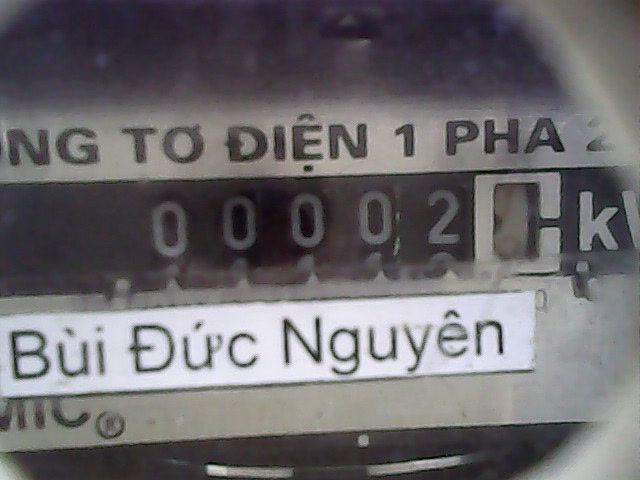phy_plate: (130, 167, 574, 291)
